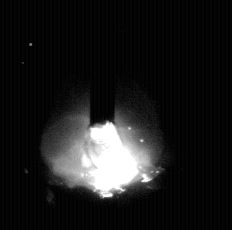arame: (91, 0, 116, 127)
poca: (42, 0, 163, 230)
